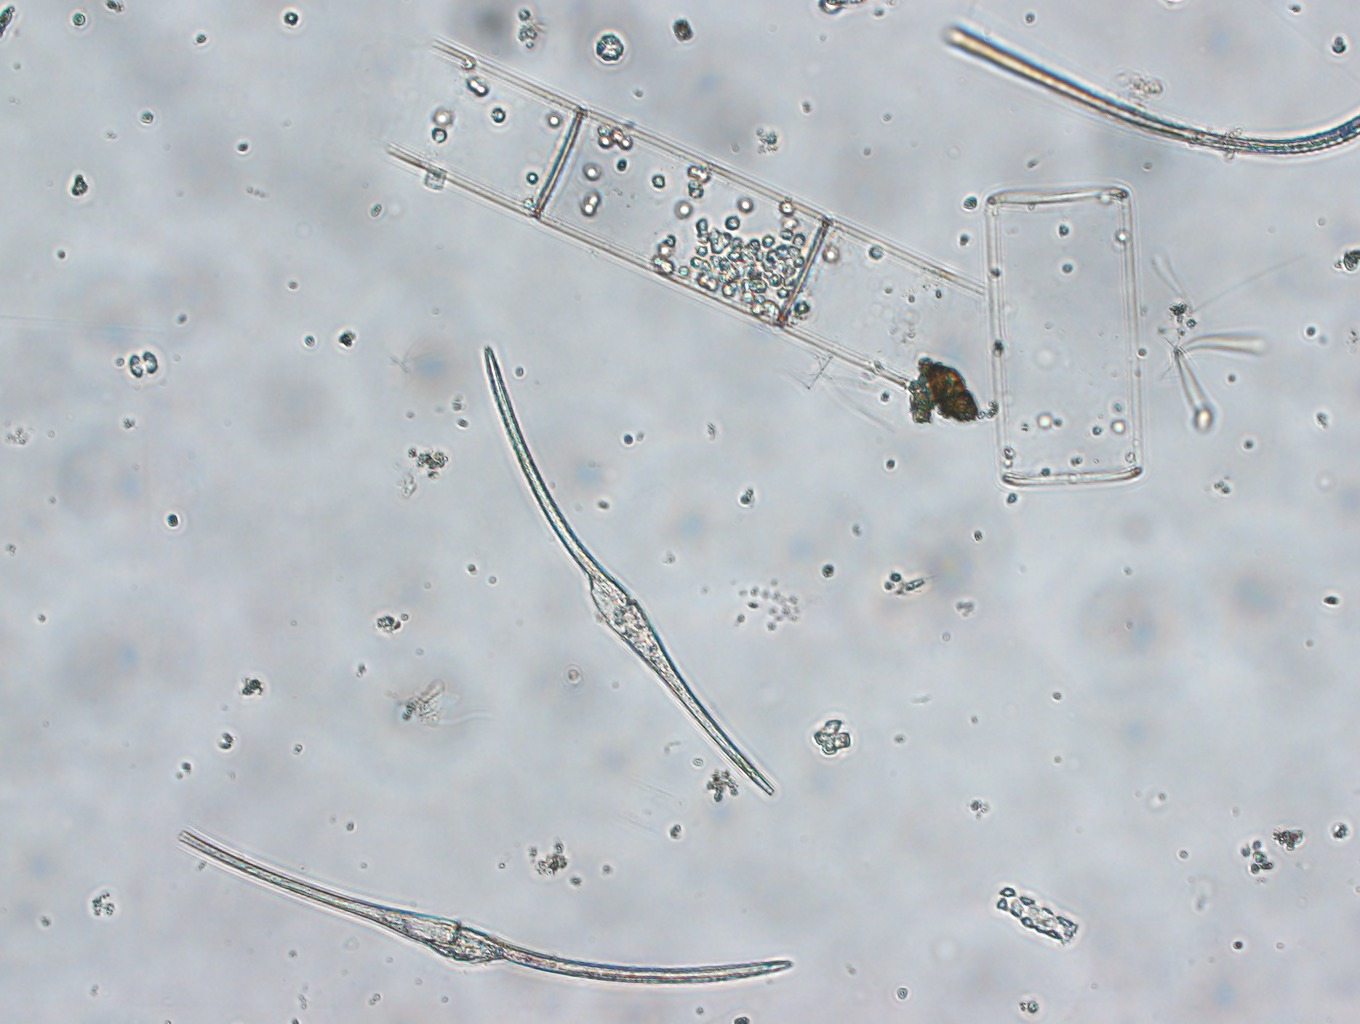ceratium fusus: (468, 340, 783, 799), (170, 822, 797, 995)
guinardia flaccida: (374, 26, 992, 406), (972, 180, 1157, 497)
